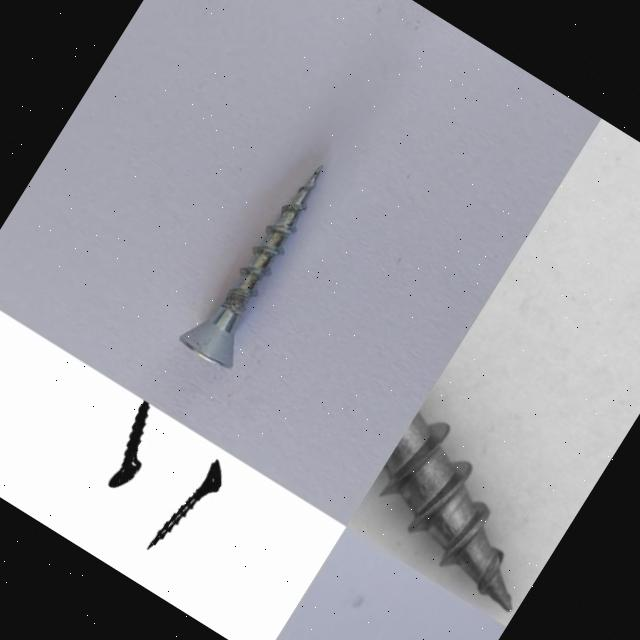Screw: (345, 204, 640, 626), (180, 165, 323, 368), (148, 458, 222, 547), (108, 400, 149, 486)
